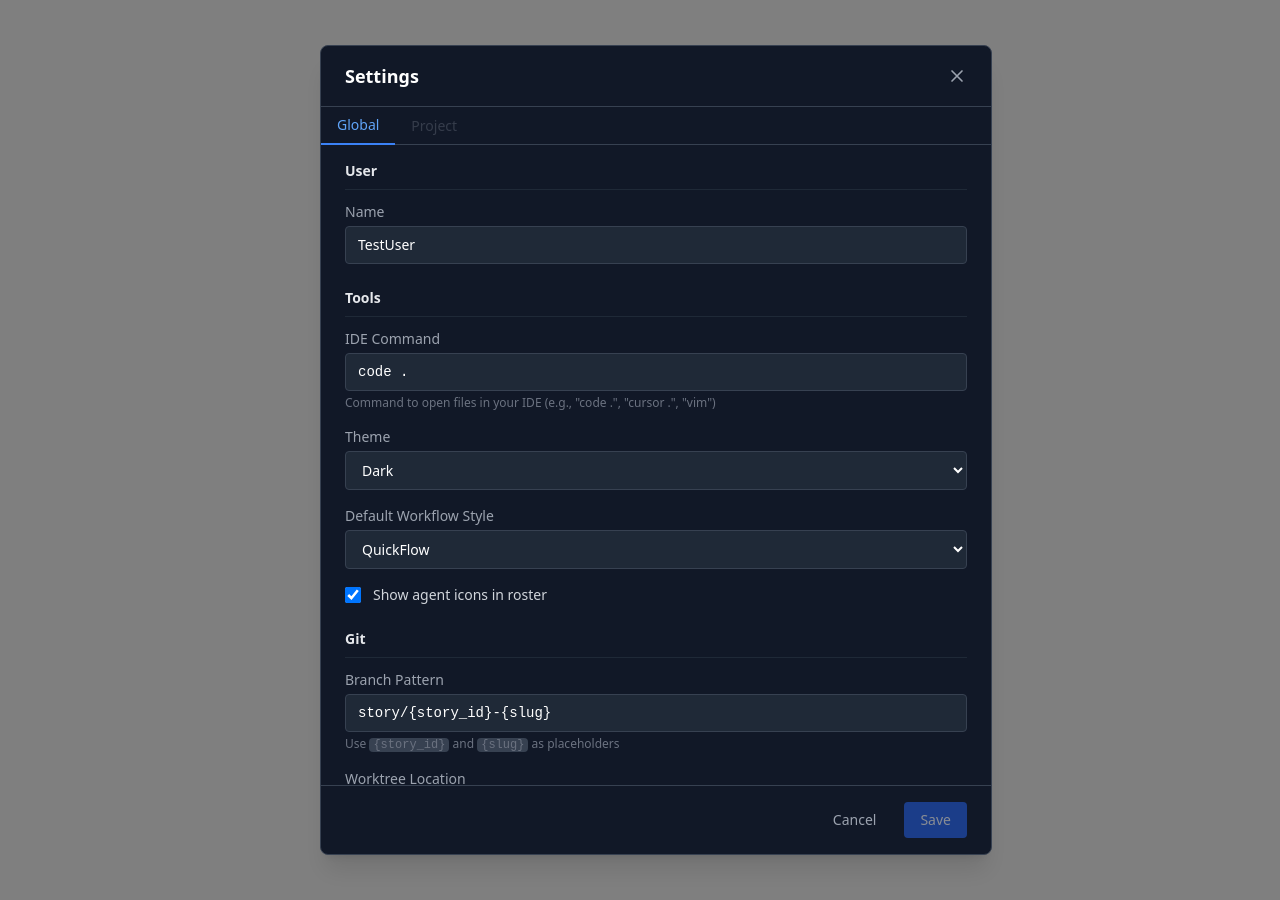
Test: SettingsModal › shows confirmation dialog when closing with unsaved changes
Make a change to trigger dirty state
Step 1. Replace the text in the field labelled "Name" with "NewUser" → (656, 245), box x1=345 y1=226 x2=967 y2=264
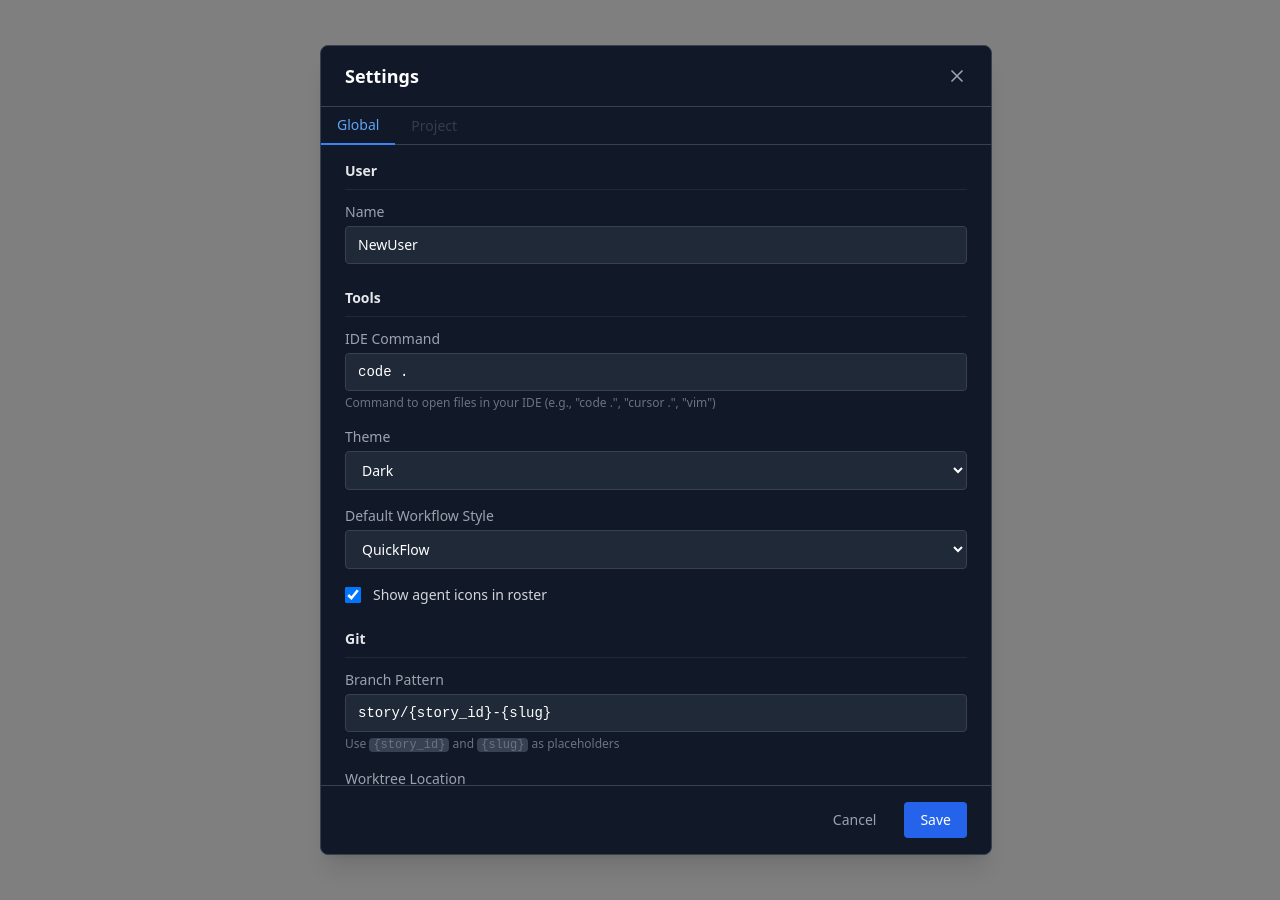
Try to close
Step 2. Click the button "Cancel" → click(855, 820), box x1=817 y1=802 x2=892 y2=838
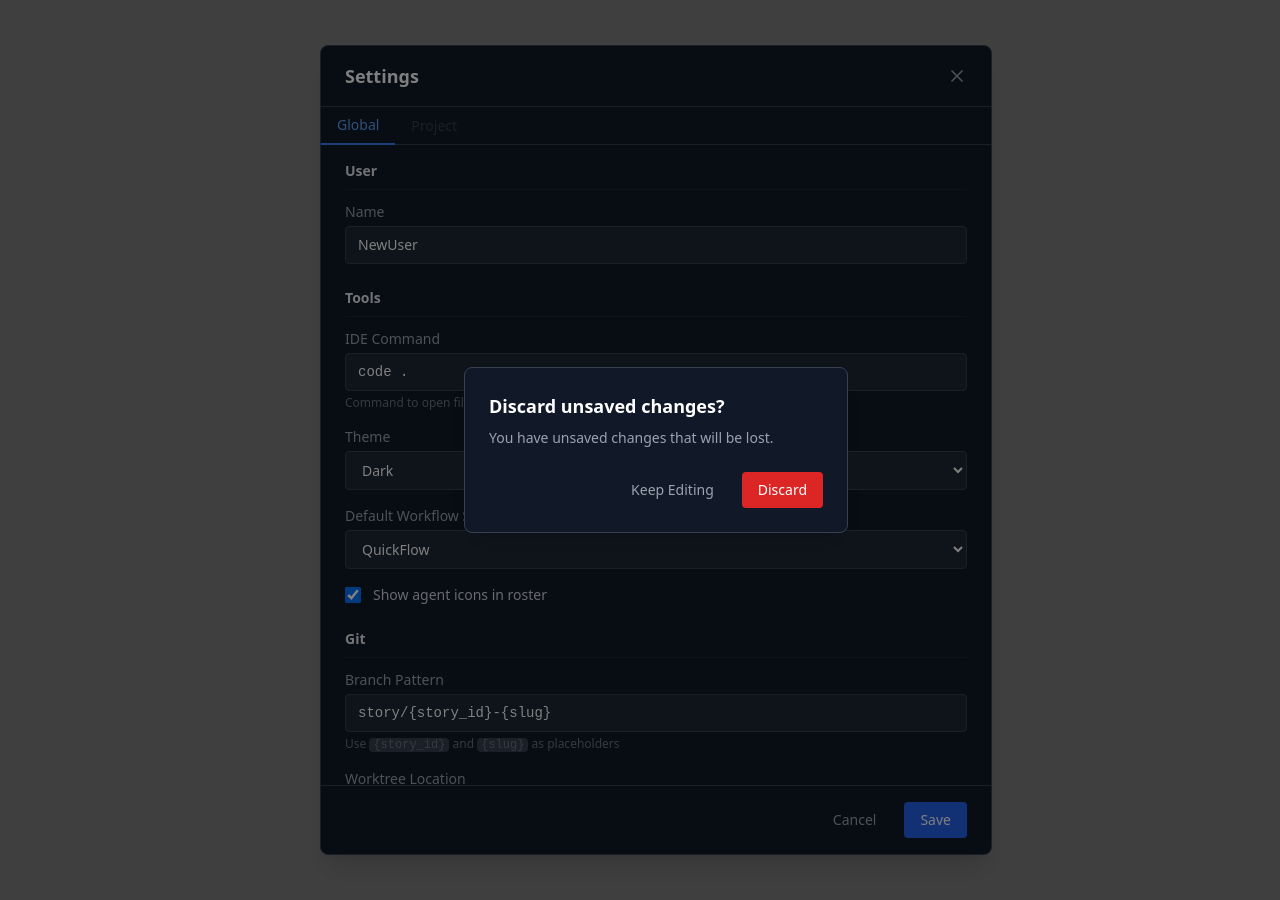
Expected: the heading "Discard unsaved changes?" is shown, x1=489 y1=394 x2=724 y2=418
